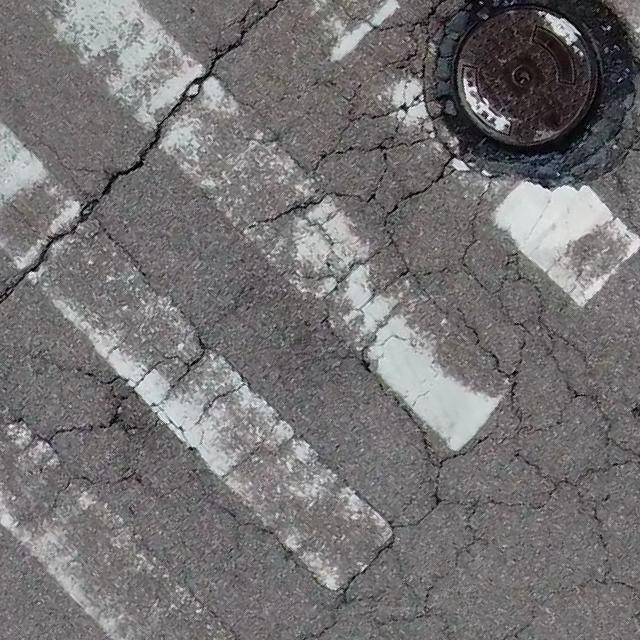GRIETA: (0, 0, 290, 307), (96, 219, 186, 315)
PIEL DE COCODRILO: (0, 0, 639, 639)
